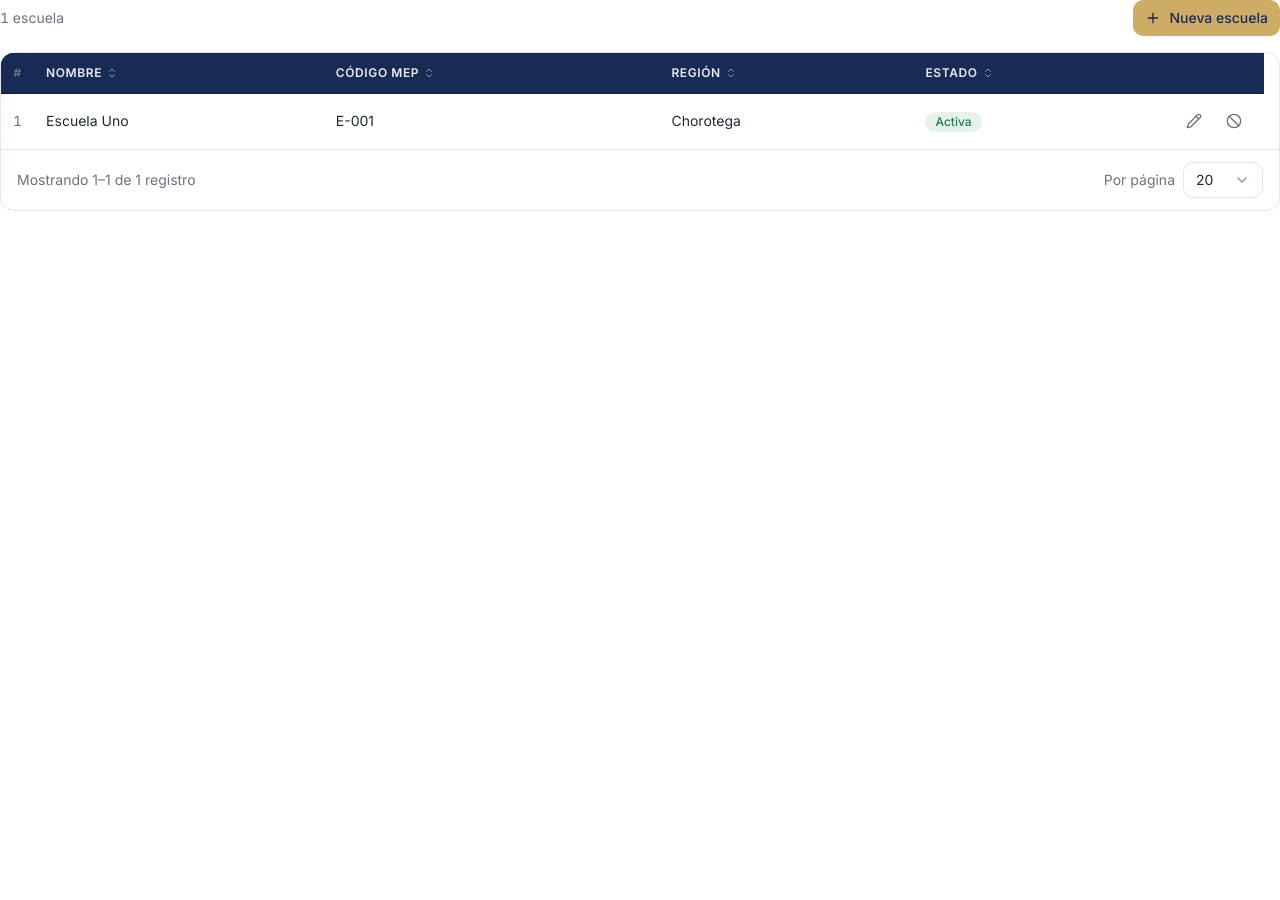
GestionEscuelas › exige región, código y nombre antes de enviar
Click the button "Nueva escuela" at (1207, 18), box 1133,0 -> 1279,36
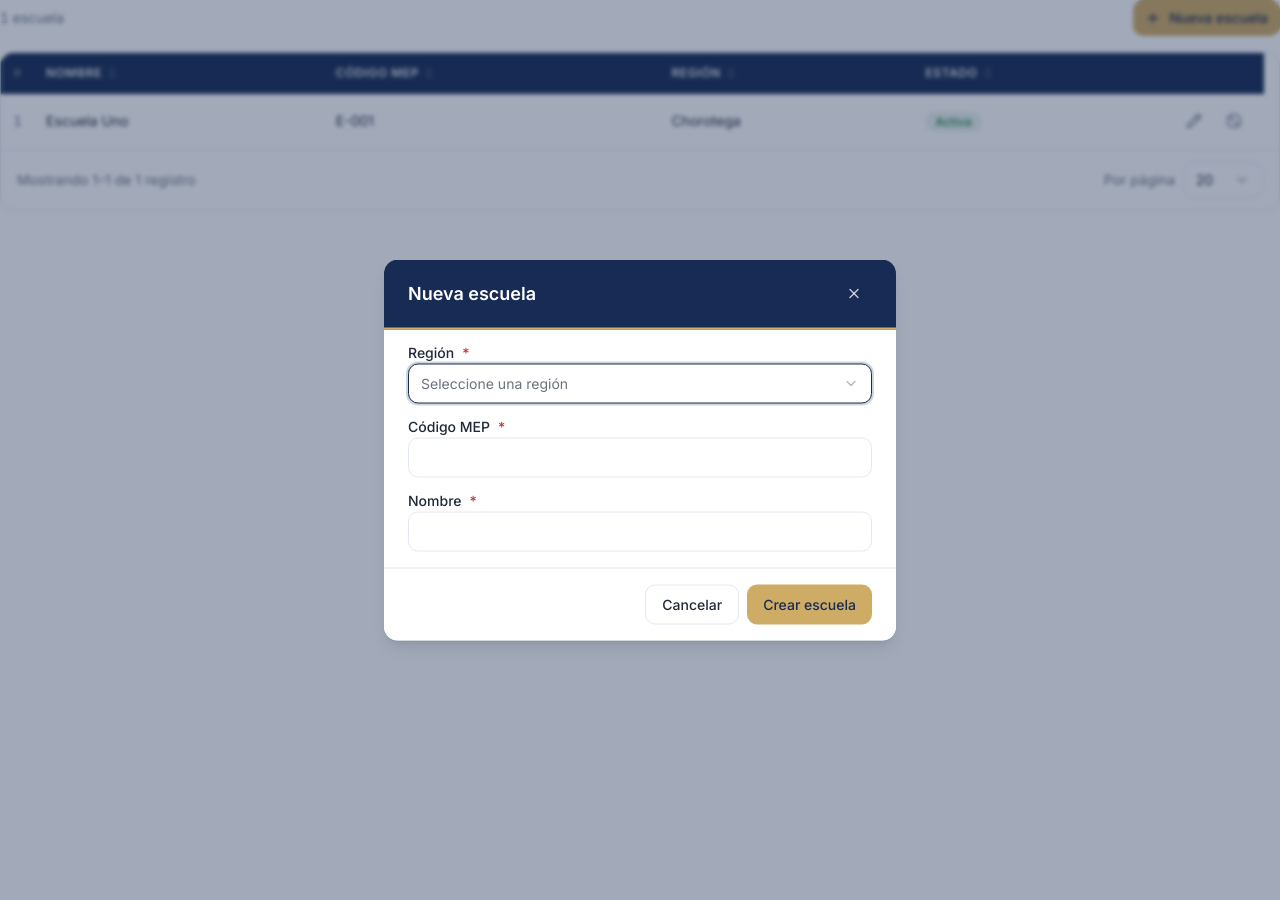
Click the button "Crear escuela" at (810, 604), box 747,584 -> 872,624
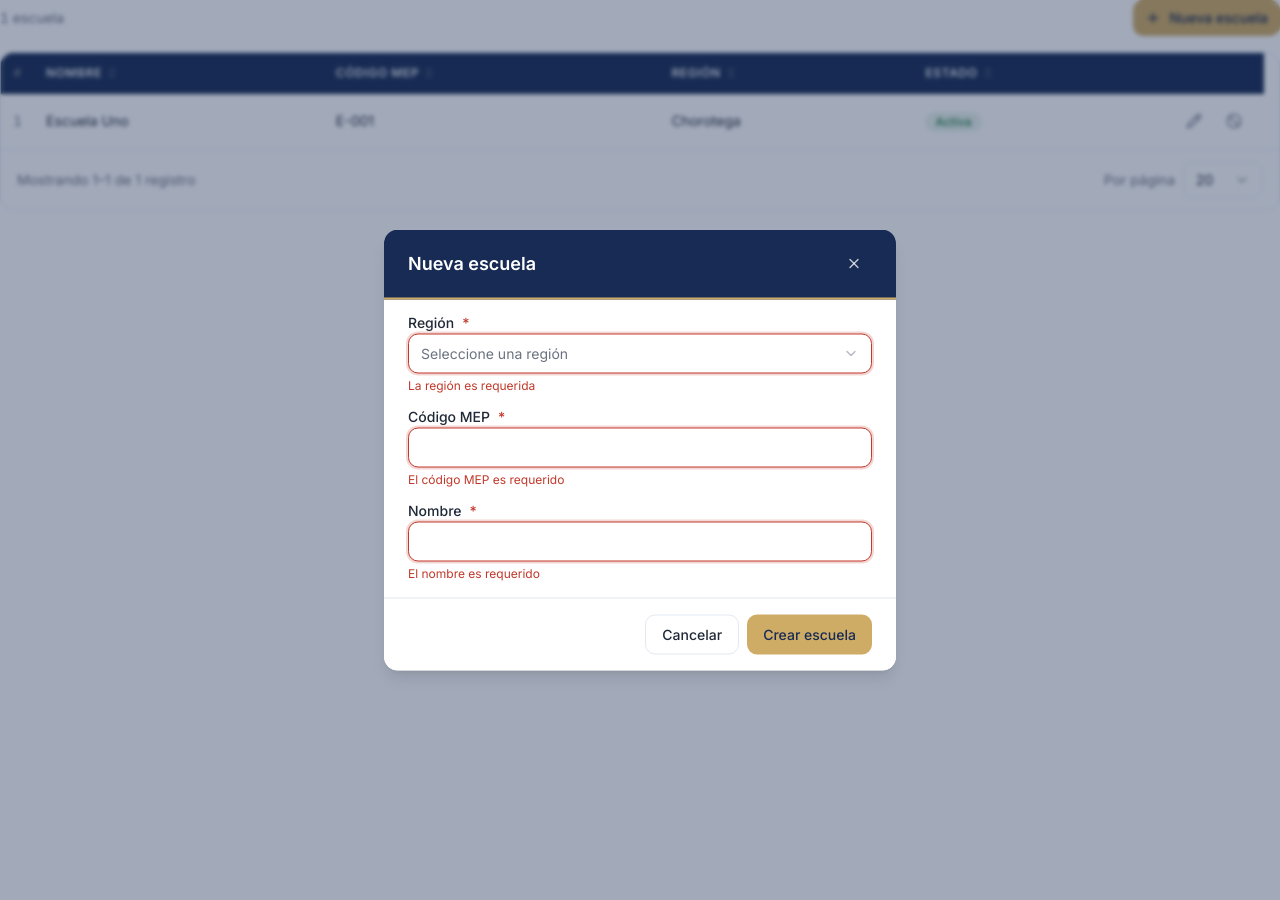
Now the text "El código MEP es requerido" is shown, box 408,472 -> 564,486
Now the text "El nombre es requerido" is shown, box 408,566 -> 540,580
Now the text "La región es requerida" is shown, box 408,378 -> 535,392
